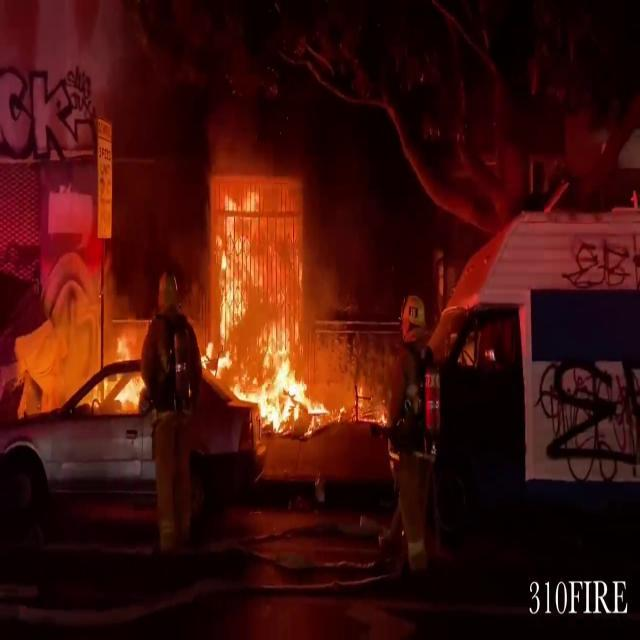Fire: (216, 172, 300, 408), (252, 329, 329, 436), (90, 344, 148, 415)
